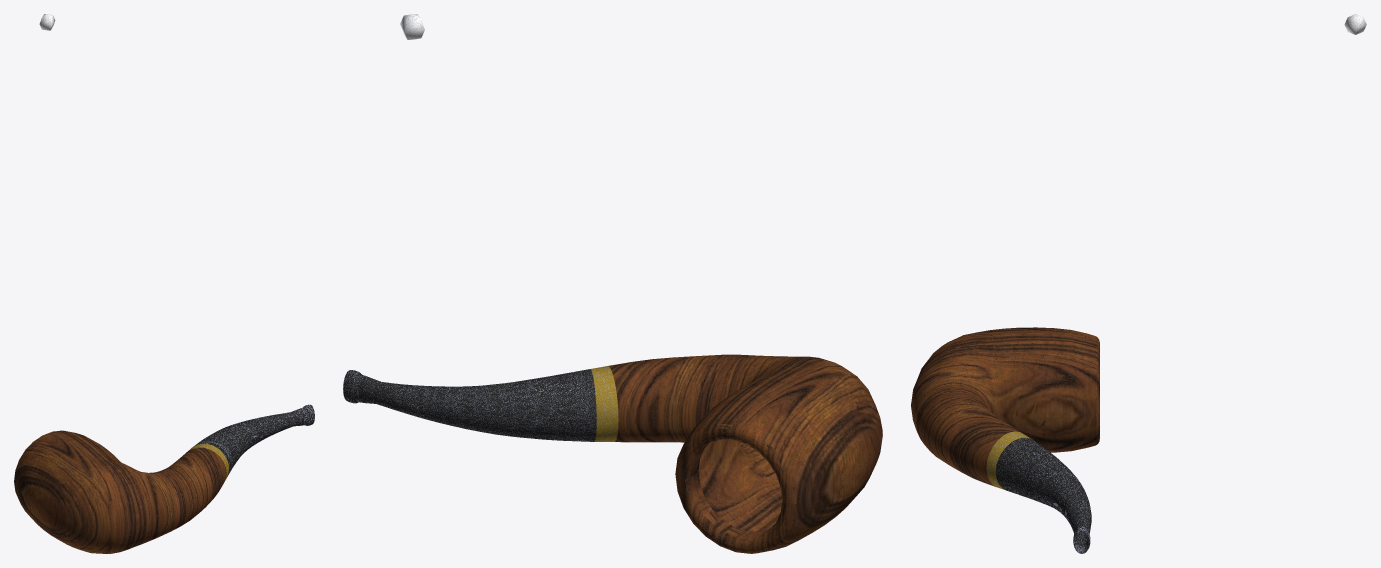
Rendered from prop_chachimbo_pipe.fbx.
The picture shows the model from 3 angles, left to right: view 1: azimuth 30°, elevation 25°; view 2: azimuth 150°, elevation 25°; view 3: azimuth 270°, elevation 25°; orthographic projection. The views are drawn at different scales.
Parts seen in each view (by area): view 1: Group1, Group3; view 2: Group1, Group3, Group2; view 3: Group1, Group3, Group2.
Part boxes in pixels (<box>): Group1: <box>14,430,226,553</box>; Group3: <box>193,404,314,476</box>; Group1: <box>608,354,882,553</box>; Group3: <box>343,369,596,441</box>; Group2: <box>590,366,618,441</box>; Group1: <box>911,327,1099,486</box>; Group3: <box>995,437,1091,553</box>; Group2: <box>986,431,1032,490</box>.
Bounding box in the file's own units: 0.2091 × 0.269 × 0.225.
